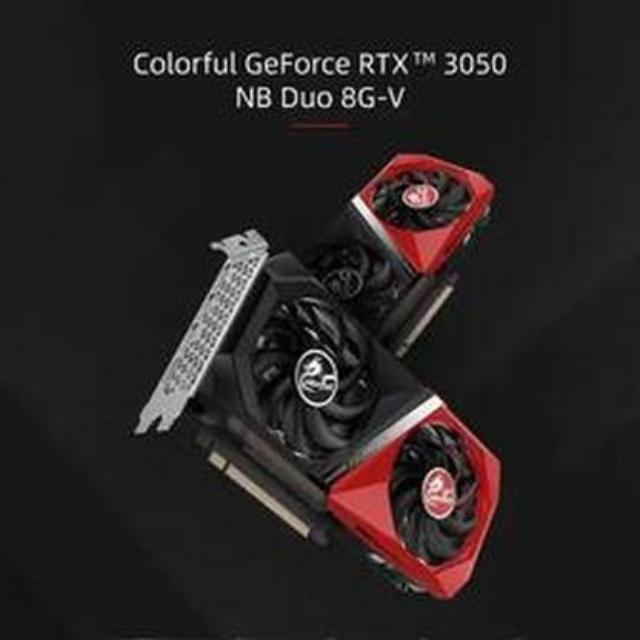GPU: (133, 234, 504, 608), (296, 150, 496, 352)
